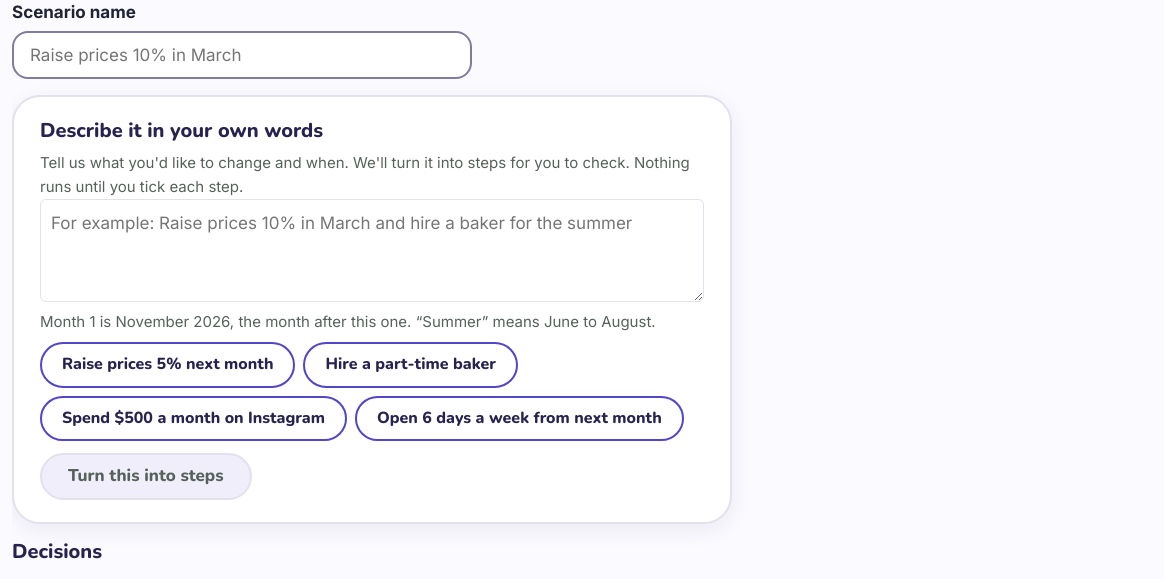
Test: ScenarioBuilderPage: describe it in your own words › a failed outcome log never stops the scenario from saving
(page scrolled)
Type "Raise prices 10% in March and hire a baker for the summer" into the text box named "What would you like to change?".
click(372, 250); type("Raise prices 10% in March and hire a baker for the summer")  # box [40, 198, 704, 302]
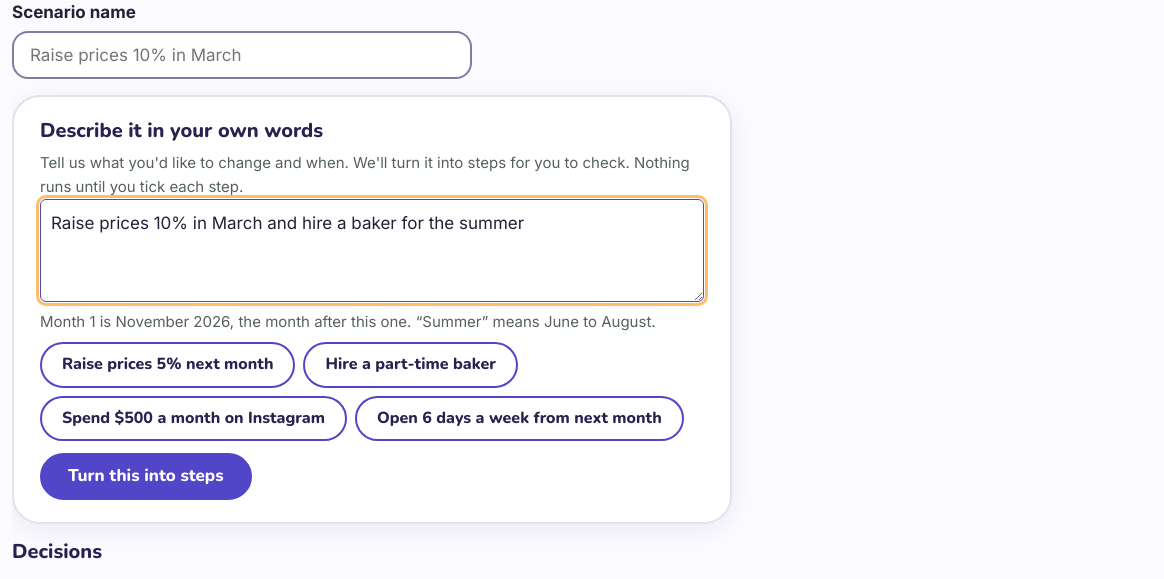
Click the button "Turn this into steps".
click(146, 477)  # box [40, 454, 252, 500]
(page scrolled)
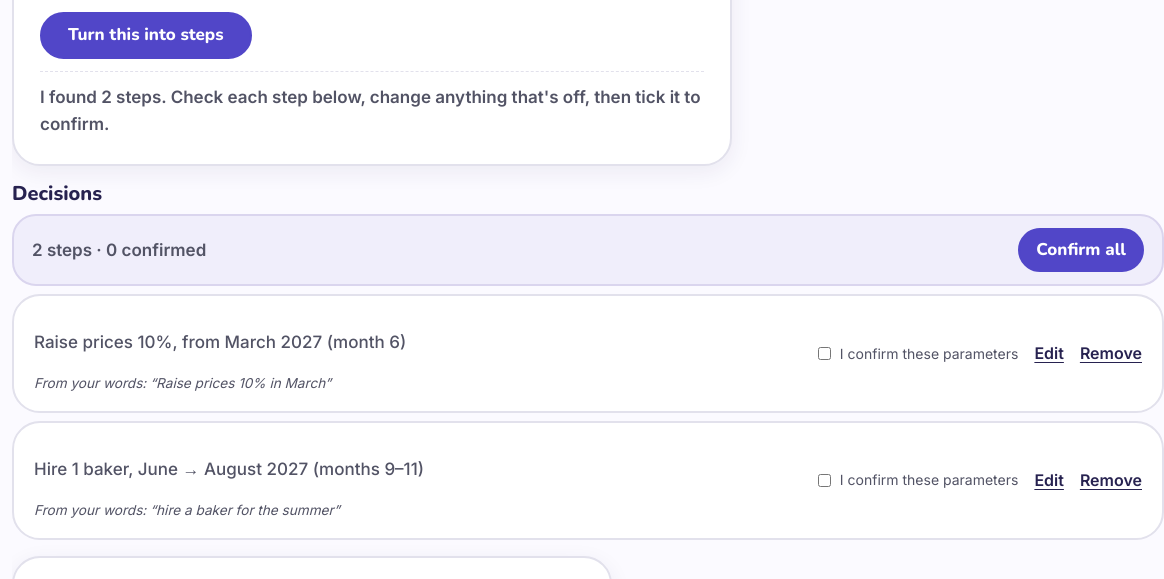
Expected: the text "I found 2 steps" is shown, [40, 87, 166, 107]
Click the button "Confirm all".
click(1081, 250)  # box [1018, 228, 1144, 272]
(page scrolled)
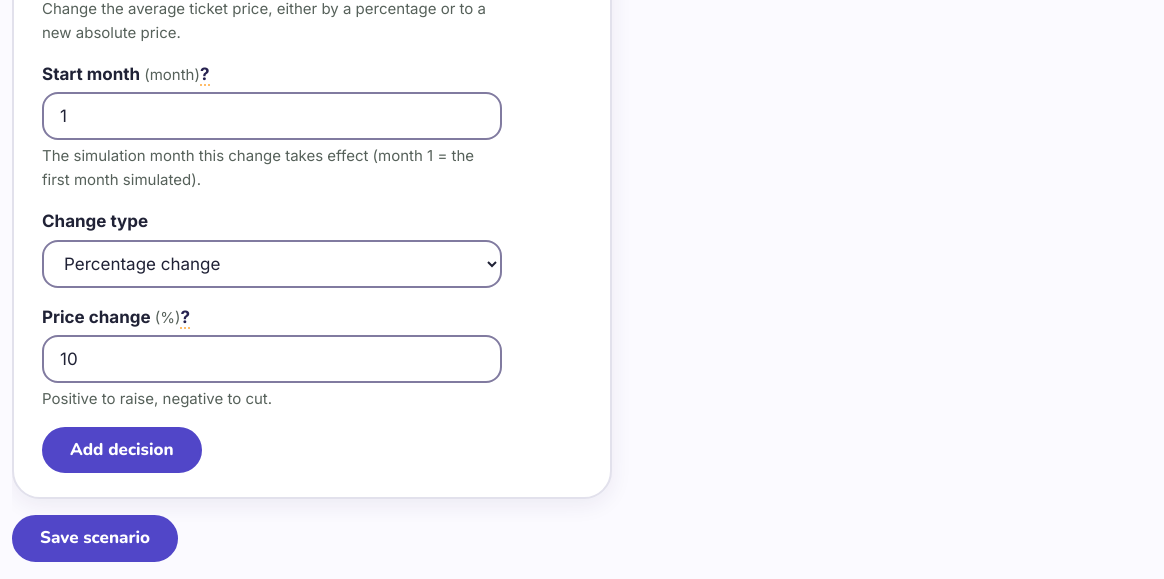
Click the button "Save scenario".
click(95, 538)  # box [12, 515, 178, 562]
(page scrolled)
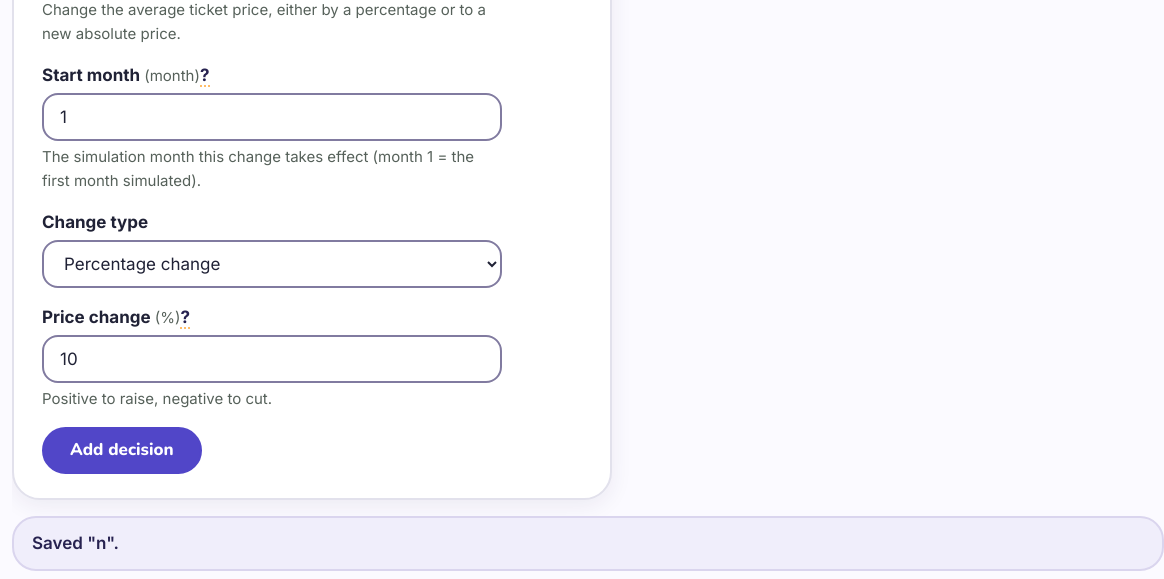
Expected: the text "Saved \"n\"." is shown, [12, 516, 1163, 571]
